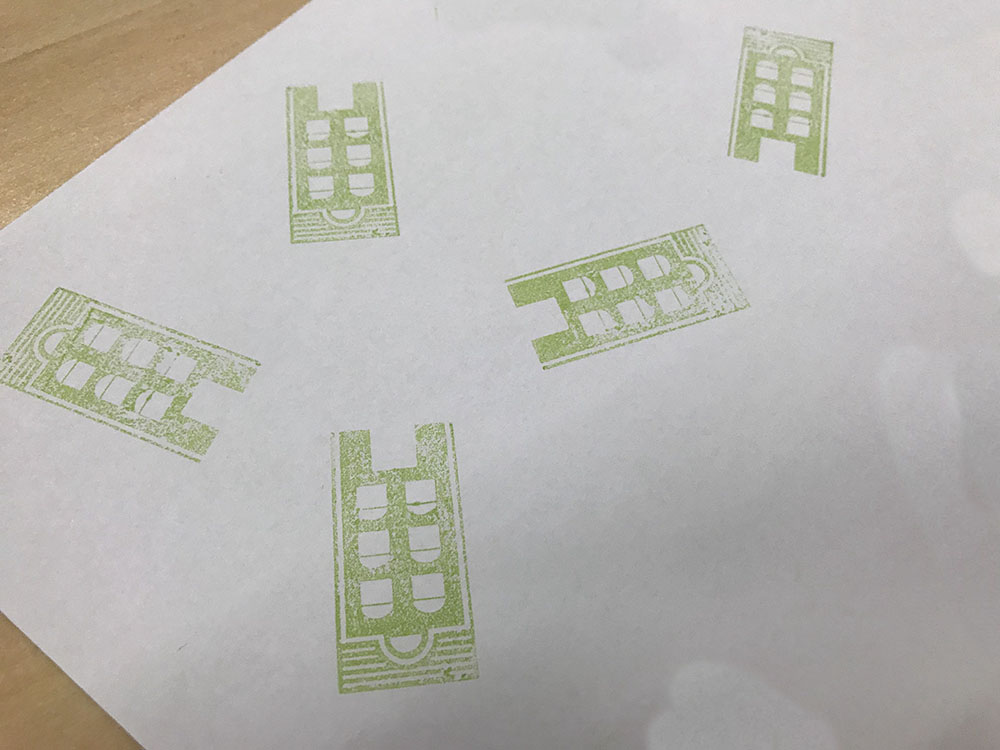build: (1, 249, 277, 485), (314, 416, 497, 716), (491, 208, 761, 376), (273, 77, 423, 262), (719, 16, 849, 197)
